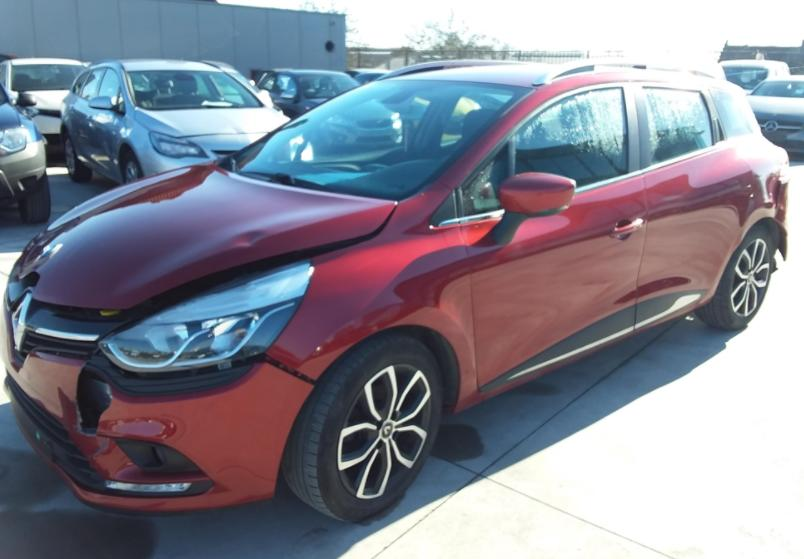Back-door: (635, 81, 755, 328)
Back-wheel: (698, 225, 775, 329)
Back-window: (637, 80, 715, 172), (710, 91, 752, 139)
Fender: (264, 183, 486, 412)
Front-bumper: (3, 351, 313, 516)
Front-door: (457, 80, 645, 394)
Front-wheel: (282, 329, 443, 521)
Front-window: (458, 81, 641, 214)
Grille: (5, 279, 131, 362)
Headlight: (99, 261, 317, 376)
Hood: (8, 160, 393, 310)
Mirror: (504, 173, 573, 212)
Quarter-panel: (729, 128, 790, 254)
Roof: (371, 60, 742, 89)
Windshield: (219, 78, 532, 202)
